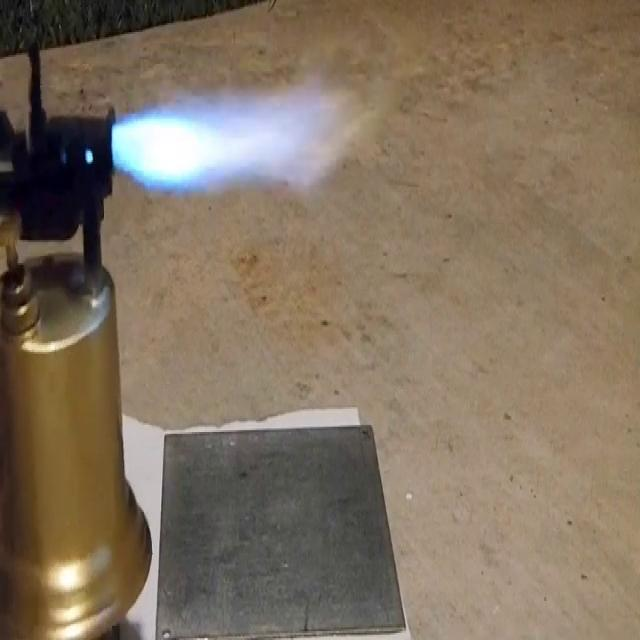fire: (106, 84, 387, 206)
